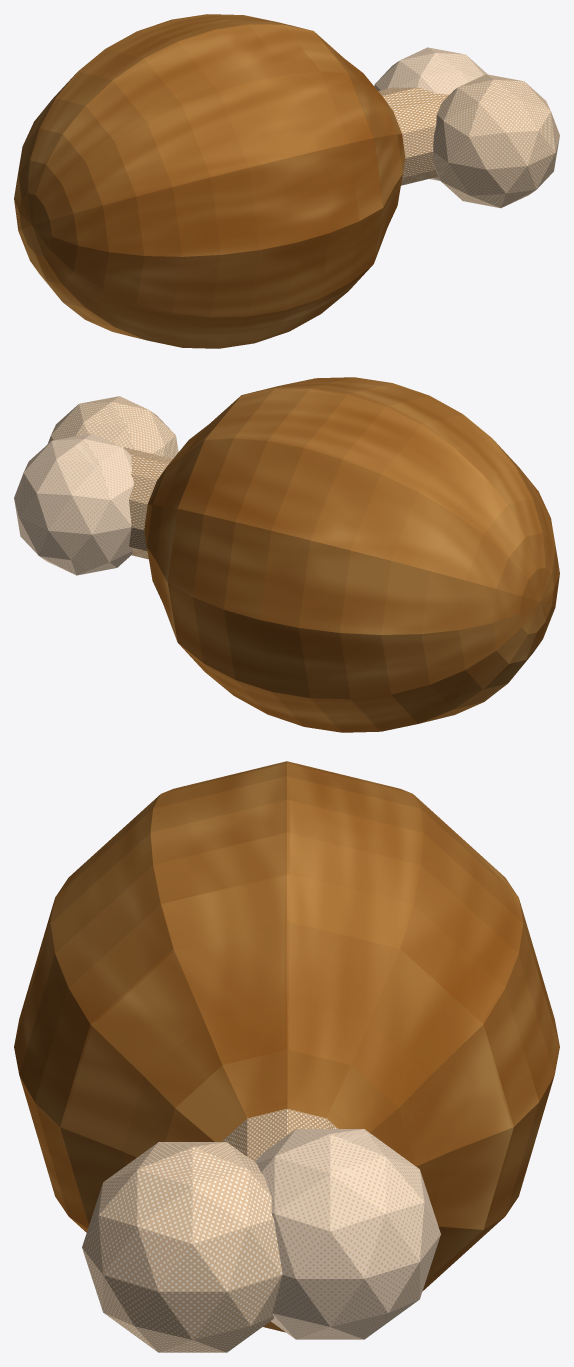
File: pollo.fbx
3 renders of one model, top to bottom at view 1: azimuth 30°, elevation 25°; view 2: azimuth 150°, elevation 25°; view 3: azimuth 270°, elevation 25°, orthographic. The views are drawn at different scales.
Parts seen in each view (by area): view 1: Pollo, Hueso1, Hueso, Hueso2; view 2: Pollo, Hueso2, Hueso1, Hueso; view 3: Pollo, Hueso1, Hueso2, Hueso.
Part boxes in pixels (left/top/right/bottom): Pollo: left=14, top=14, right=405, bottom=348; Hueso1: left=433, top=74, right=559, bottom=208; Hueso: left=378, top=87, right=449, bottom=185; Hueso2: left=374, top=47, right=487, bottom=180; Pollo: left=144, top=377, right=559, bottom=732; Hueso2: left=14, top=433, right=133, bottom=575; Hueso1: left=47, top=396, right=178, bottom=458; Hueso: left=123, top=447, right=172, bottom=559; Pollo: left=14, top=761, right=559, bottom=1332; Hueso1: left=82, top=1142, right=282, bottom=1352; Hueso2: left=255, top=1129, right=440, bottom=1339; Hueso: left=221, top=1109, right=337, bottom=1161.
Bounding box in the file's own units: 180 × 107 × 107.
4 materials, 4 textured.
